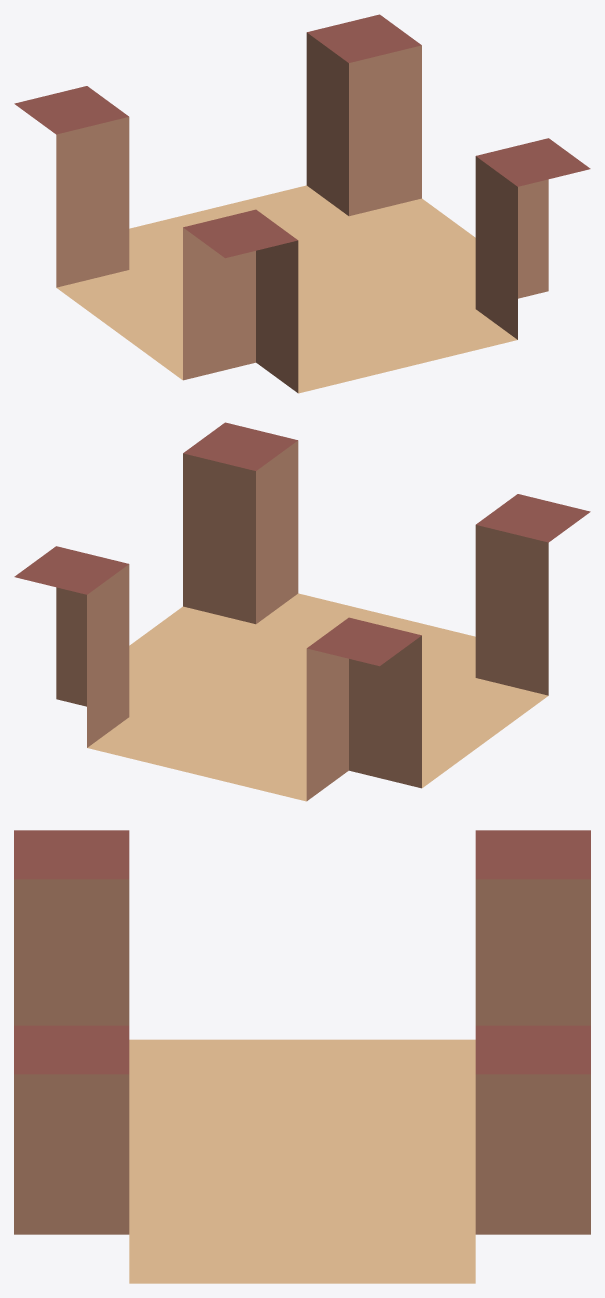
The model's file is SM_Tile_Cross.fbx.
3 renders of one model, top to bottom at view 1: azimuth 30°, elevation 25°; view 2: azimuth 150°, elevation 25°; view 3: azimuth 270°, elevation 25°, orthographic. The views are drawn at different scales.
Visible parts, largest first — view 1: SM_Tile_Cross; view 2: SM_Tile_Cross; view 3: SM_Tile_Cross.
Boxes of the visible parts, bbox=[...] form: SM_Tile_Cross: bbox=[14, 14, 590, 393]; SM_Tile_Cross: bbox=[14, 422, 590, 801]; SM_Tile_Cross: bbox=[14, 830, 590, 1283].
Size of the model in its own units: 500 by 200 by 500.
